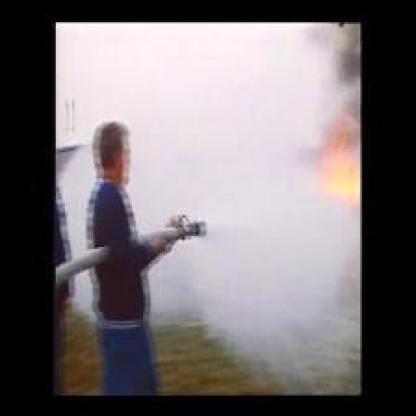fire: (313, 131, 356, 207)
